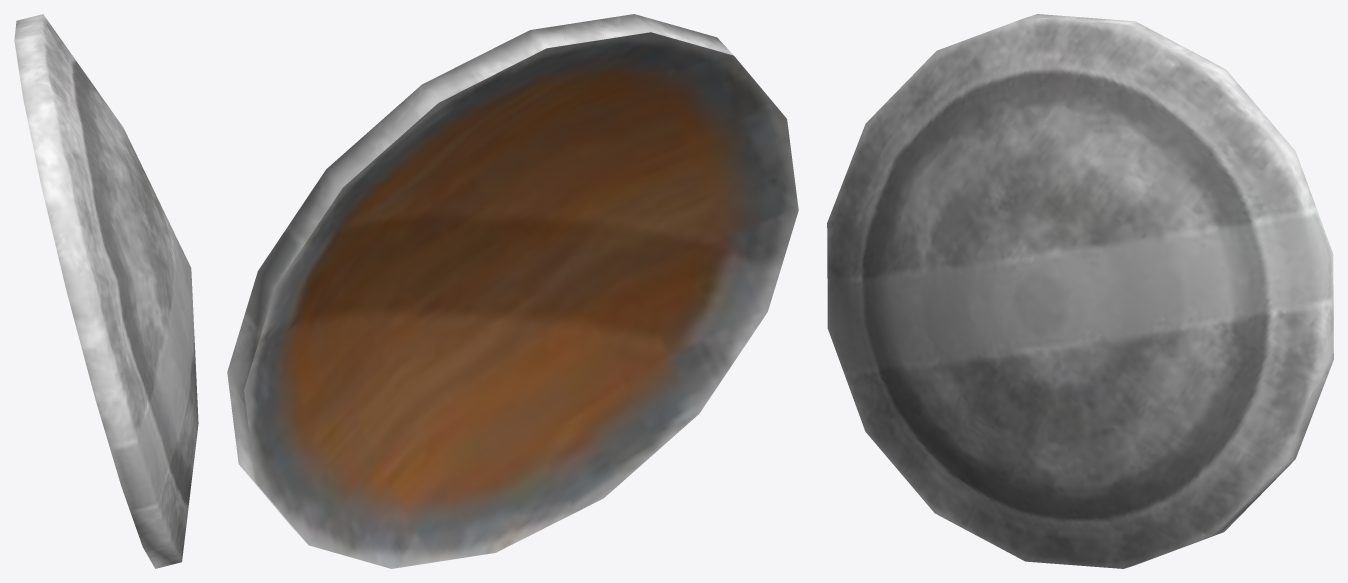
The model's file is shield-coppershields.glb.
3 views of the same model, side by side, from view 1: azimuth 30°, elevation 25°; view 2: azimuth 150°, elevation 25°; view 3: azimuth 270°, elevation 25° (orthographic). The views are drawn at different scales.
Size of the model in its own units: 0.3036 by 0.5397 by 0.4983.
1 material, 1 textured.
